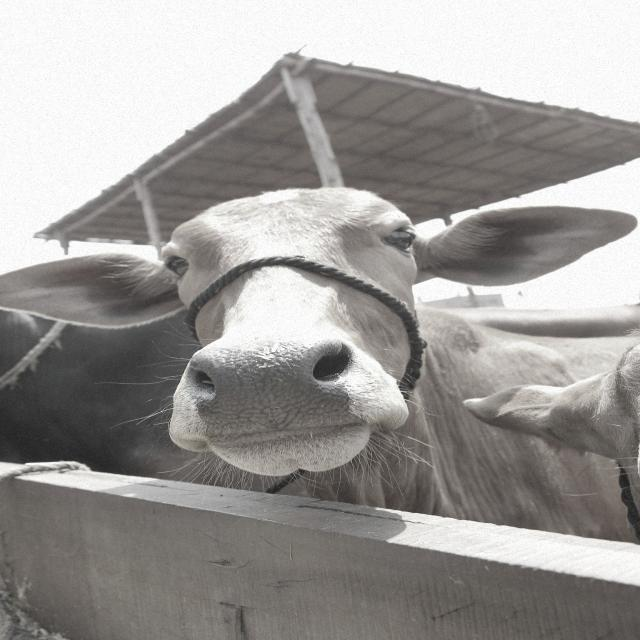muzzles: (181, 341, 375, 442)
